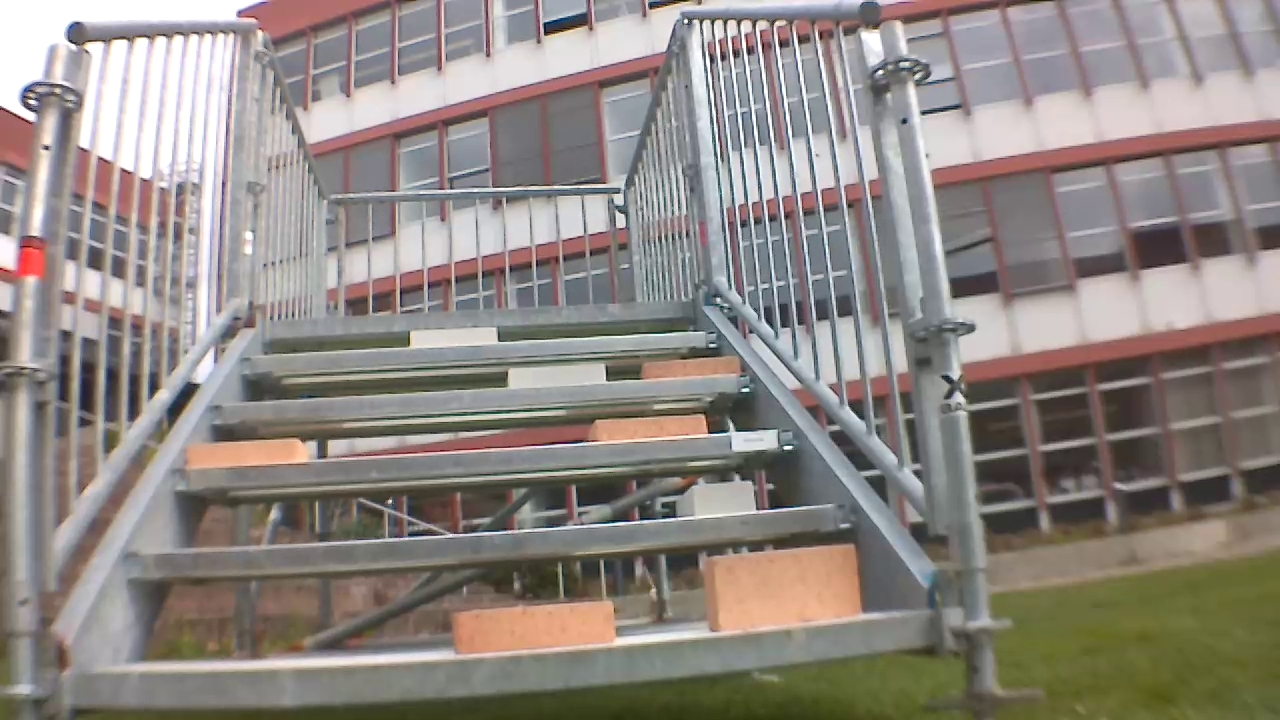brick: (706, 546, 861, 627), (439, 600, 620, 657), (588, 413, 707, 448), (173, 442, 303, 471), (503, 364, 611, 394), (679, 481, 761, 520), (625, 360, 743, 387), (401, 320, 500, 350)
edge: (46, 616, 937, 713), (128, 504, 841, 580), (173, 418, 805, 495), (240, 336, 736, 375), (245, 295, 705, 335), (215, 374, 743, 402)
stairs: (14, 5, 967, 704)
steps: (21, 313, 1013, 697)
